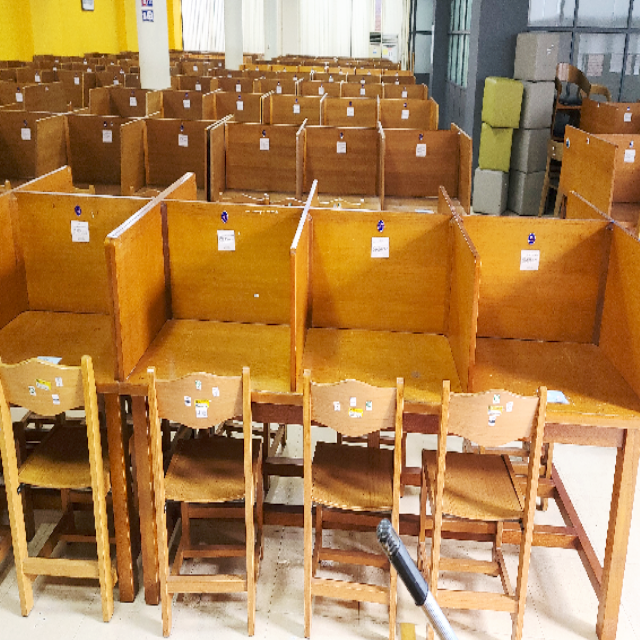empty: (297, 223, 474, 482), (125, 220, 289, 490), (482, 222, 634, 479)
